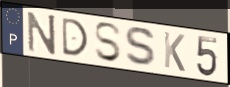5: (195, 34, 220, 77)
D: (60, 17, 90, 58)
K: (162, 30, 187, 74)
N: (26, 10, 58, 56)
S: (123, 25, 159, 69), (93, 21, 124, 64)
